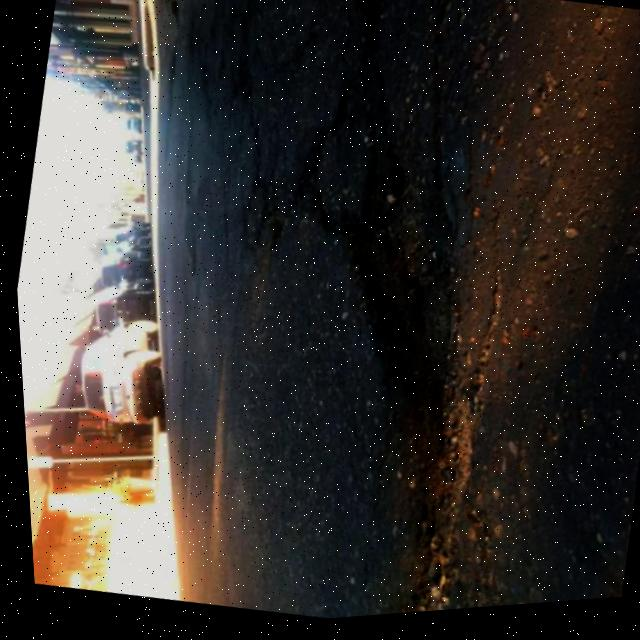Pothole: (294, 177, 545, 531), (345, 549, 474, 621)
